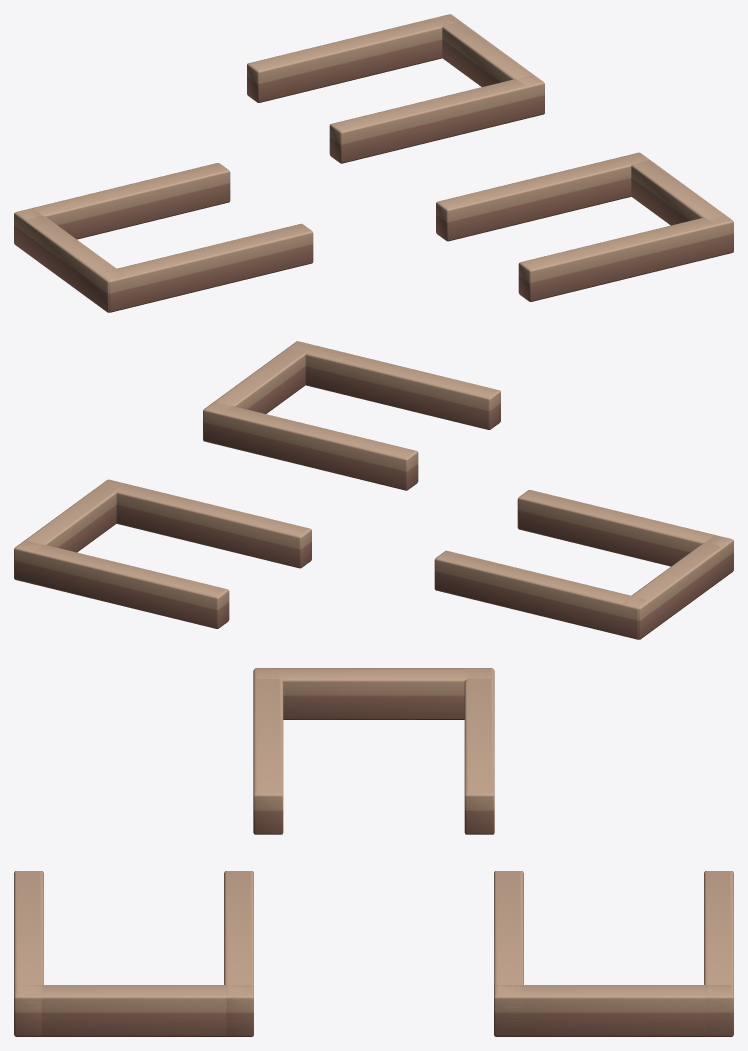
The model's file is Props.fbx.
The picture shows the model from 3 angles, top to bottom: view 1: azimuth 30°, elevation 25°; view 2: azimuth 150°, elevation 25°; view 3: azimuth 270°, elevation 25°; orthographic projection. The views are drawn at different scales.
Visible parts, largest first — view 1: Box20-3_2 (2), Box20-3_2 (5), Box20-3_2 (8), Box20-3_2, Box20-3_2 (4), Box20-3_2 (7), Box20-3_2 (6), Box20-3_2 (3), Box20-3_2 (1); view 2: Box20-3_2, Box20-3_2 (4), Box20-3_2 (7), Box20-3_2 (2), Box20-3_2 (5), Box20-3_2 (8), Box20-3_2 (6), Box20-3_2 (3), Box20-3_2 (1); view 3: Box20-3_2 (3), Box20-3_2 (1), Box20-3_2 (6), Box20-3_2 (8), Box20-3_2 (7), Box20-3_2 (2), Box20-3_2, Box20-3_2 (5), Box20-3_2 (4).
Boxes of the visible parts, x1,y1,x2,y2 form: Box20-3_2 (2): [518, 214, 733, 301]; Box20-3_2 (5): [329, 75, 544, 163]; Box20-3_2 (8): [101, 223, 313, 312]; Box20-3_2: [436, 153, 649, 241]; Box20-3_2 (4): [247, 14, 459, 102]; Box20-3_2 (7): [16, 163, 230, 239]; Box20-3_2 (6): [14, 208, 125, 312]; Box20-3_2 (3): [433, 14, 544, 113]; Box20-3_2 (1): [623, 152, 733, 252]; Box20-3_2: [203, 402, 418, 490]; Box20-3_2 (4): [14, 540, 229, 628]; Box20-3_2 (7): [434, 550, 646, 639]; Box20-3_2 (2): [288, 341, 500, 429]; Box20-3_2 (5): [98, 480, 311, 568]; Box20-3_2 (8): [517, 490, 731, 566]; Box20-3_2 (6): [622, 535, 733, 639]; Box20-3_2 (3): [14, 479, 124, 579]; Box20-3_2 (1): [203, 341, 313, 440]; Box20-3_2 (3): [494, 985, 733, 1036]; Box20-3_2 (1): [14, 985, 253, 1036]; Box20-3_2 (6): [255, 668, 492, 719]; Box20-3_2 (8): [253, 669, 283, 834]; Box20-3_2 (7): [464, 669, 494, 834]; Box20-3_2 (2): [14, 871, 43, 1036]; Box20-3_2: [224, 871, 253, 1036]; Box20-3_2 (5): [494, 871, 523, 1036]; Box20-3_2 (4): [704, 871, 733, 1036].
Size of the model in its own units: 26 by 1.5 by 24.01.
